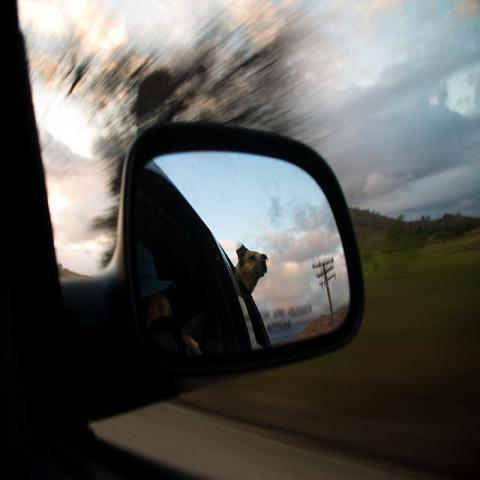car: (2, 2, 373, 469)
